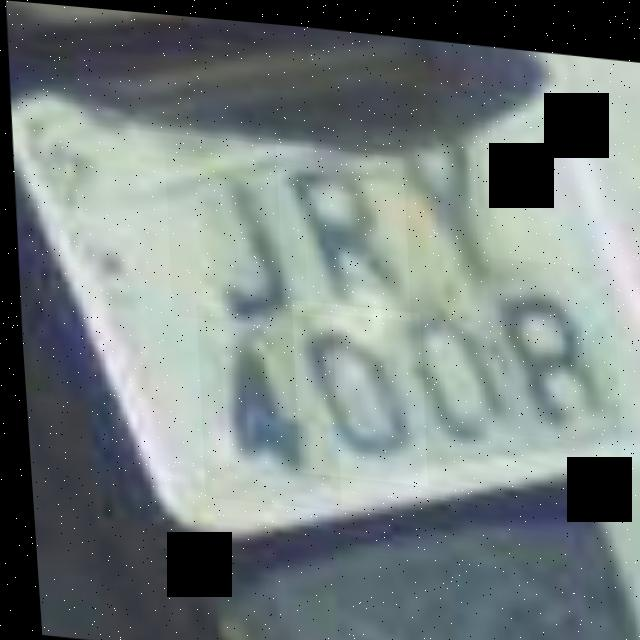0: (284, 294, 425, 479), (384, 267, 516, 450)
4: (189, 301, 338, 505)
8: (479, 247, 619, 434)
J: (159, 148, 307, 325)
R: (271, 137, 409, 314)
